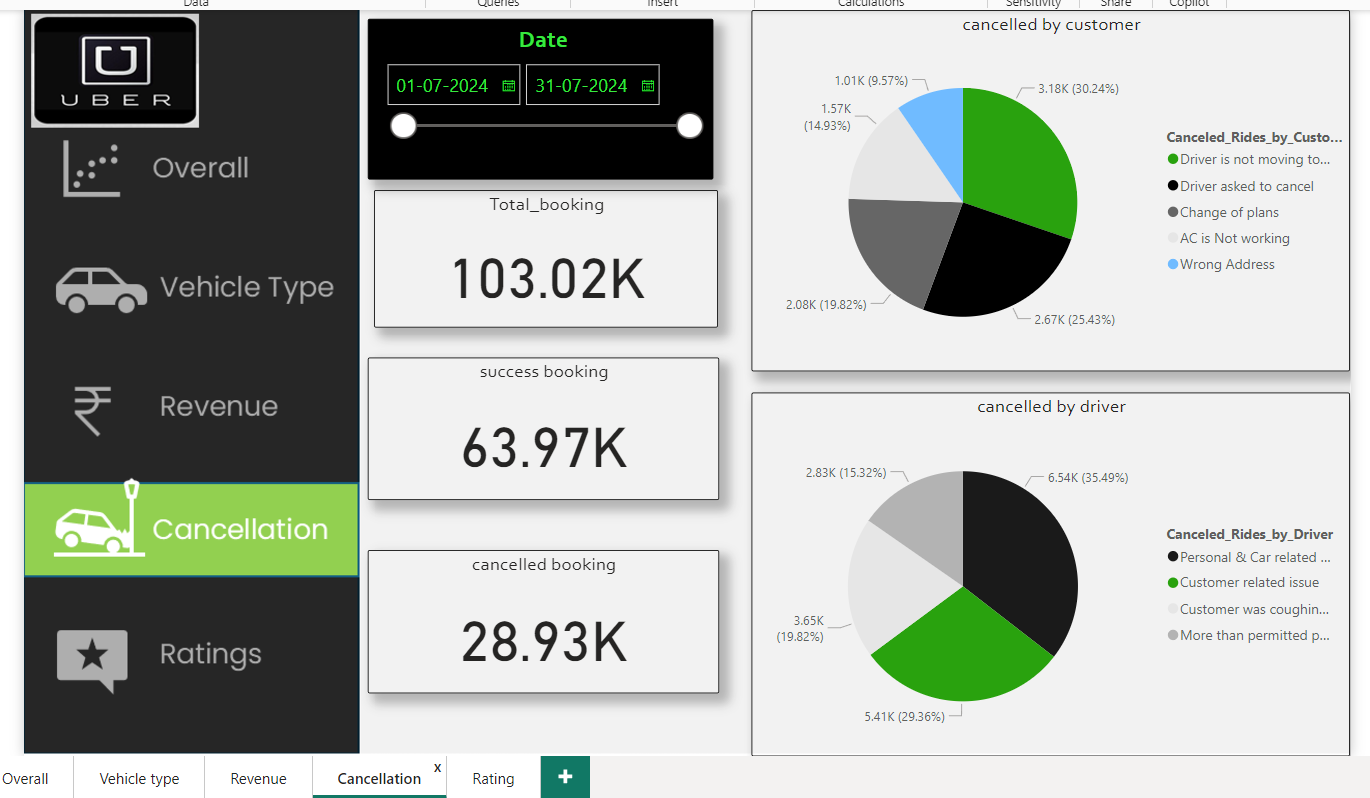

The dashboard page shown, as its layout file describes it:
{"tool":"powerbi","page":{"name":"Cancellation","canvas":[1280,720],"ordinal":3},"visuals":[{"type":"actionButton","box":[0,570.6,324.5,100.1],"z":0},{"type":"actionButton","box":[0,222,324.5,100.1],"z":1000},{"type":"actionButton","box":[1.2,335.4,324.5,100.1],"z":2000},{"type":"actionButton","box":[0,113.4,324.5,100.1],"z":3000},{"type":"actionButton","box":[0,570.6,324.5,100.1],"z":4000},{"type":"pieChart","title":"cancelled by customer","fields":{"Category":["July.Canceled_Rides_by_Customer"],"Y":["CountNonNull(July.Canceled_Rides_by_Customer)"]},"box":[702.6,0,577.7,348.5],"z":5000},{"type":"pieChart","title":"cancelled by driver","fields":{"Category":["July.Canceled_Rides_by_Driver"],"Y":["CountNonNull(July.Canceled_Rides_by_Driver)"]},"box":[702.6,369.1,577.7,351.3],"z":6000},{"type":"slicer","title":"Date","fields":{"Values":["July.Date"]},"box":[332.1,8.2,333.4,155.1],"z":7000},{"type":"card","title":"Total_booking","fields":{"Values":["Count(July.Booking_ID)"]},"box":[337.6,174.3,332.1,133.1],"z":8000},{"type":"card","title":"success booking","fields":{"Values":["CountNonNull(July.Booking_Status)"]},"box":[332.1,334.8,338.9,137.2],"z":9000},{"type":"card","title":"cancelled booking ","fields":{"Values":["CountNonNull(July.Booking_Status)"]},"box":[332.1,521.4,338.9,138.6],"z":10000}]}

Visuals, with their boxes on the page's 1280x720 design canvas (x1, y1, x2, y2). These are canvas units, not pixel positions in the 1370x798 screenshot, which may show the page scaled, cropped or inside an application window:
actionButton: [0,571,324,671]
actionButton: [0,222,324,322]
actionButton: [1,335,326,436]
actionButton: [0,113,324,214]
actionButton: [0,571,324,671]
"cancelled by customer" pieChart: [703,0,1280,348]
"cancelled by driver" pieChart: [703,369,1280,720]
"Date" slicer: [332,8,666,163]
"Total_booking" card: [338,174,670,307]
"success booking" card: [332,335,671,472]
"cancelled booking " card: [332,521,671,660]
